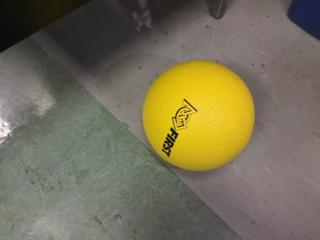power_cell: (139, 52, 261, 184)
